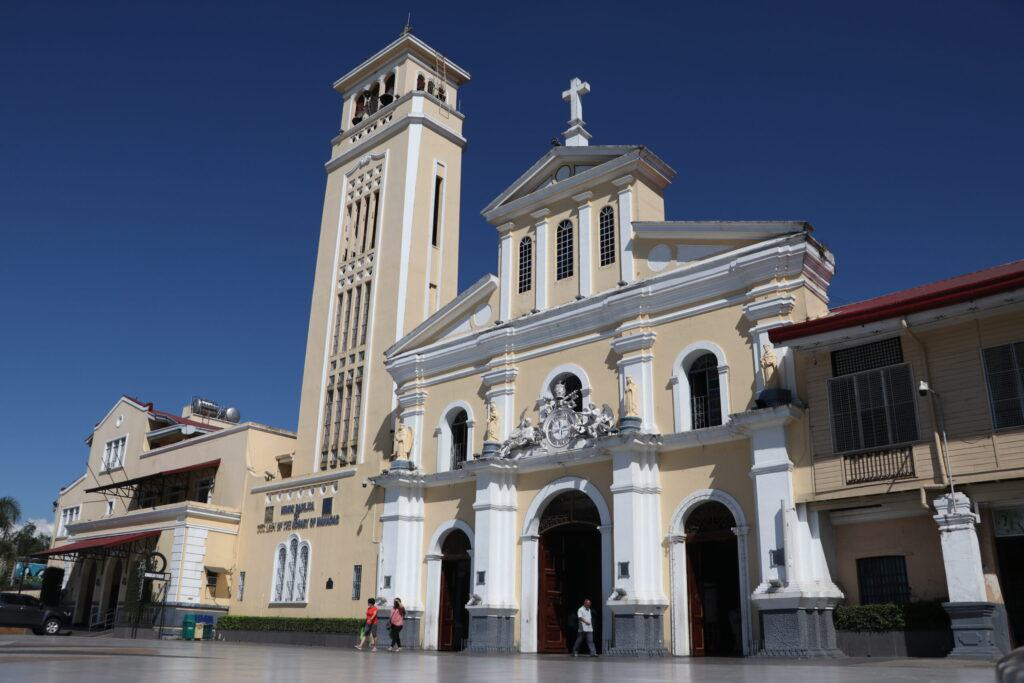manaoag_church_manaoag_pangasinan: (287, 6, 829, 661)
